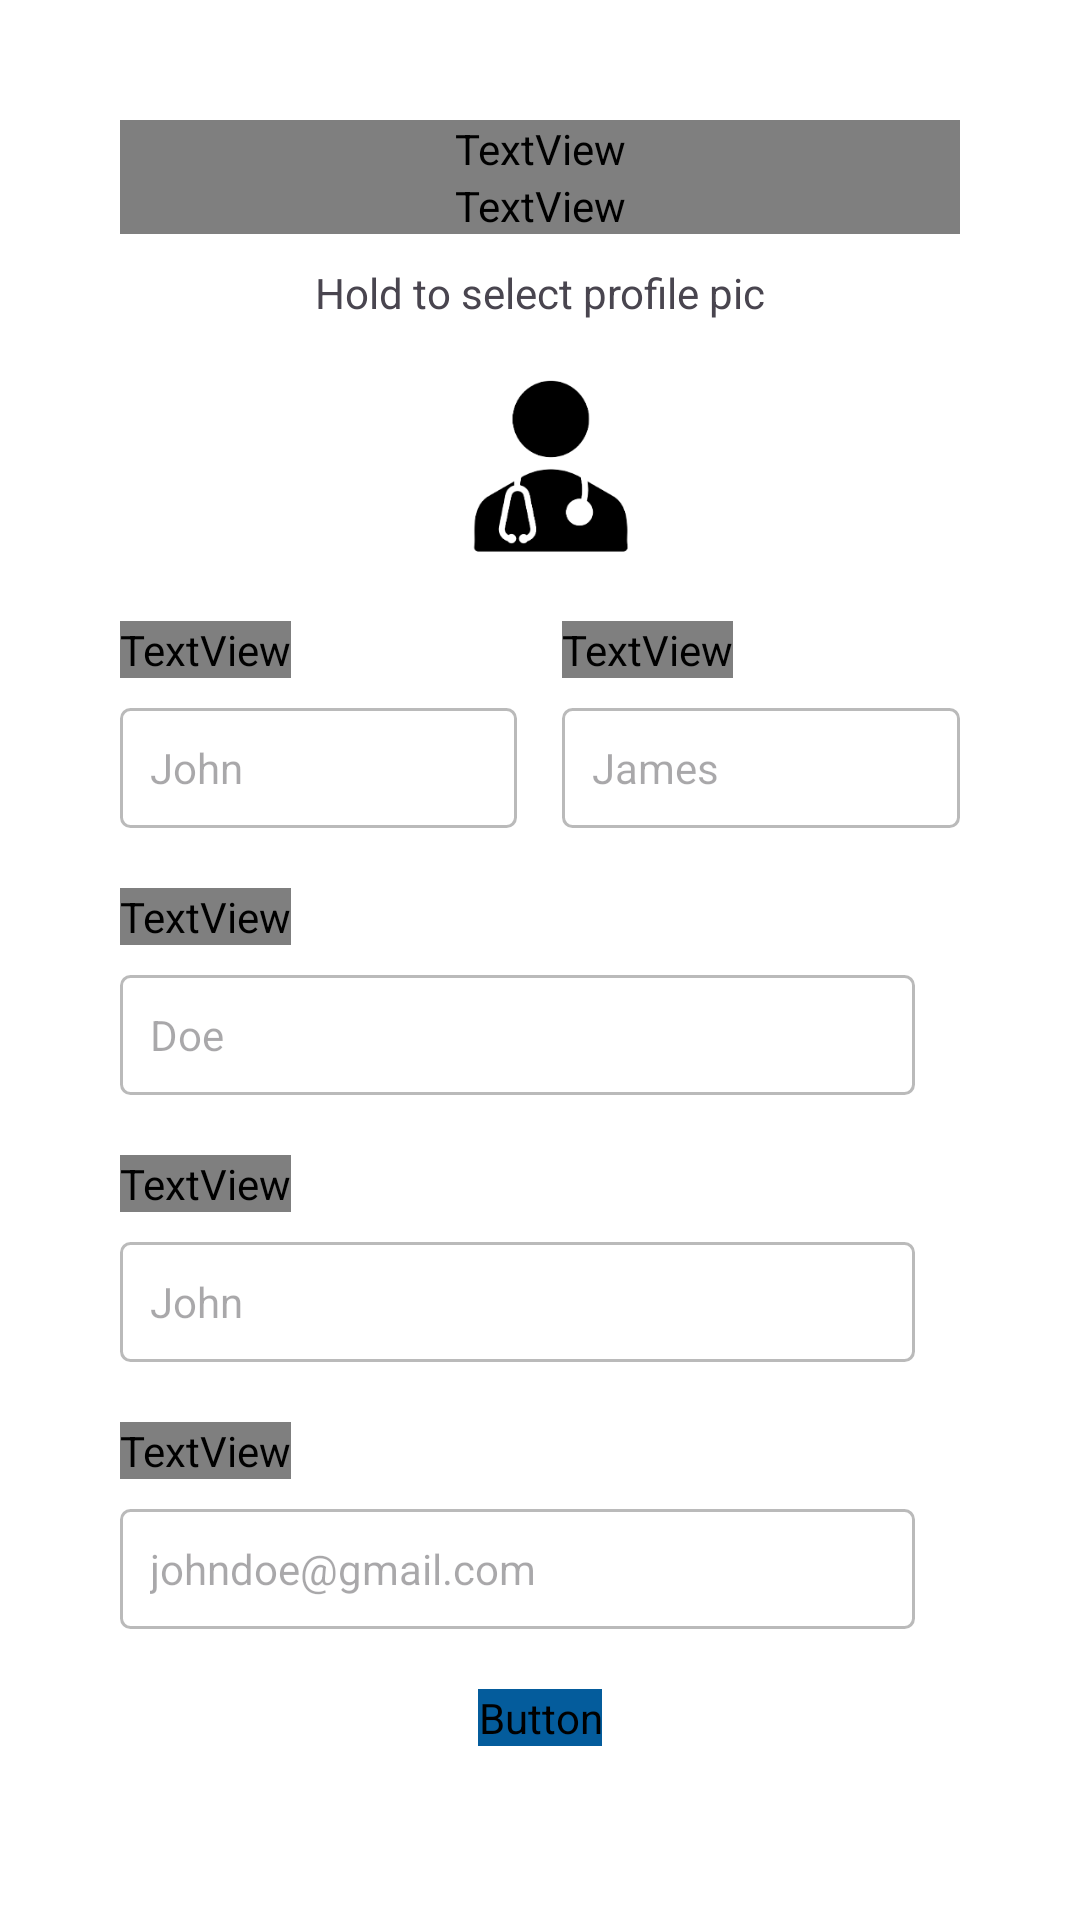

Where icons sit on this 1080px x 1920px app screen, as rect(x1, y1, x2, y2):
doc: rect(474, 380, 628, 552)
